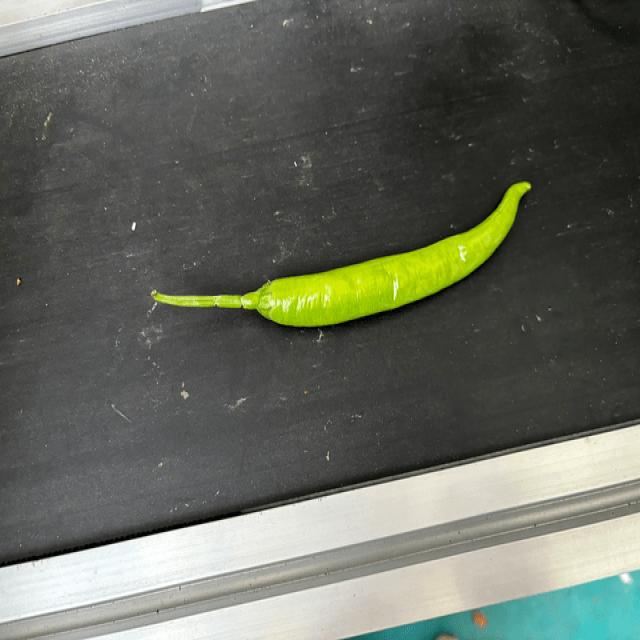chili: (255, 179, 533, 329)
